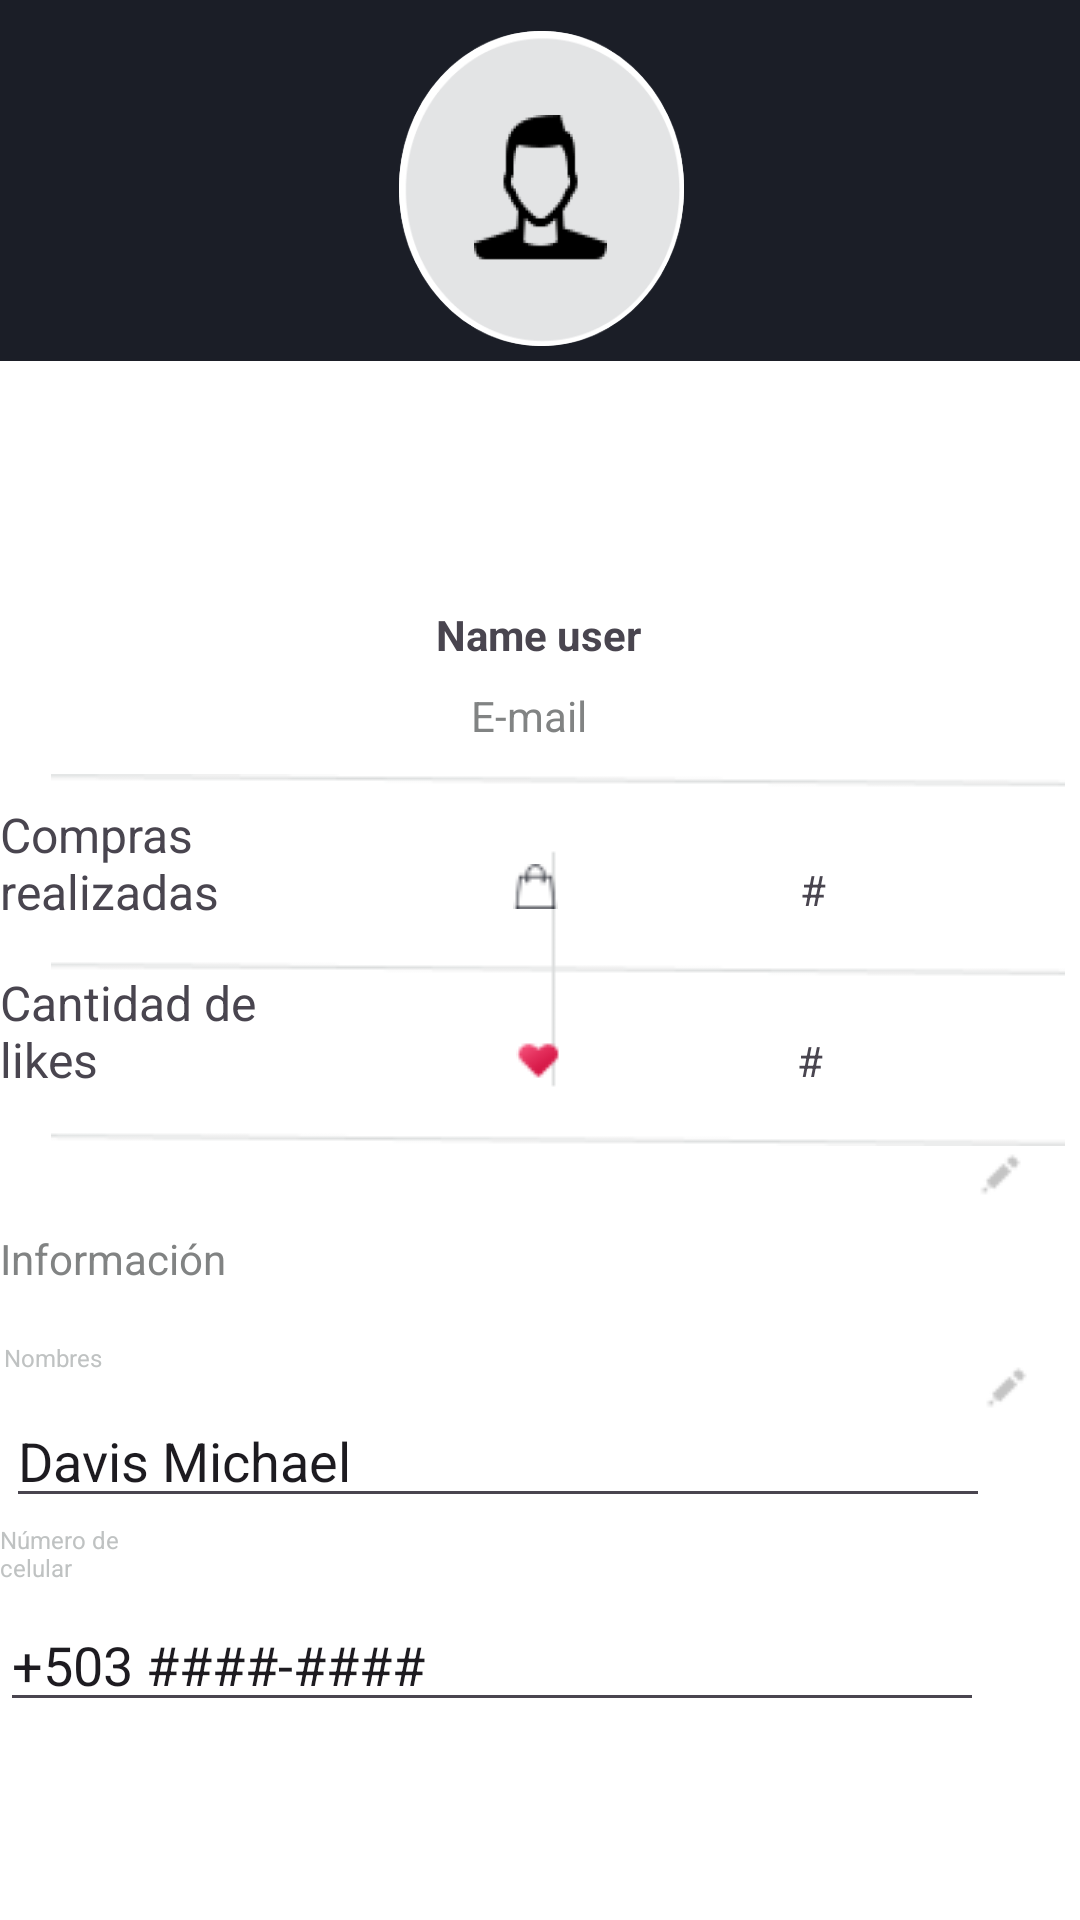

Icon click points for this 1080px x 1920px phone screenshot, format (x=x, y=y):
edit profile: (x=1001, y=1174), (x=1007, y=1387)
user profile: (x=541, y=188)
